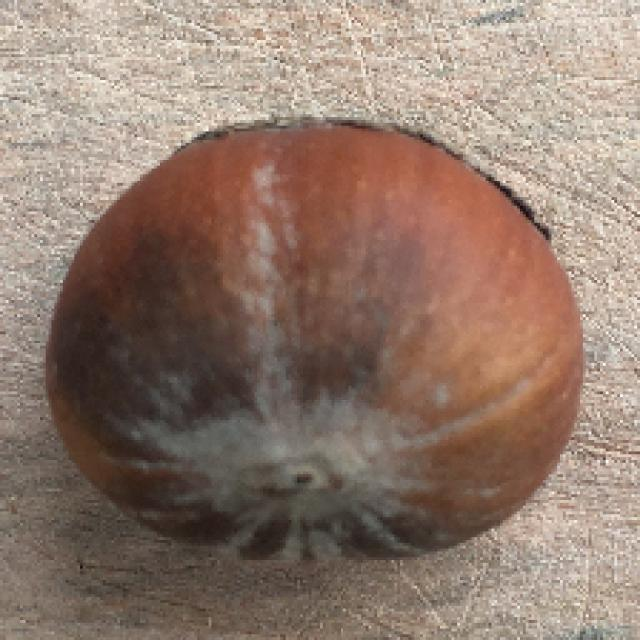DamagedHazelnut: (38, 115, 586, 564)
